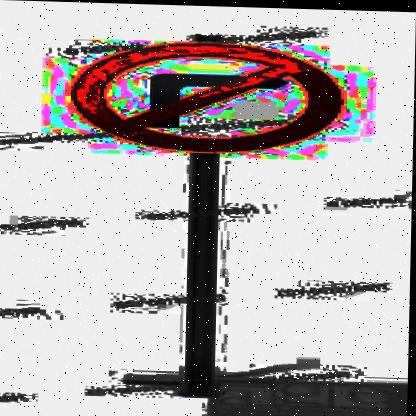No right turn: (70, 34, 358, 159)
